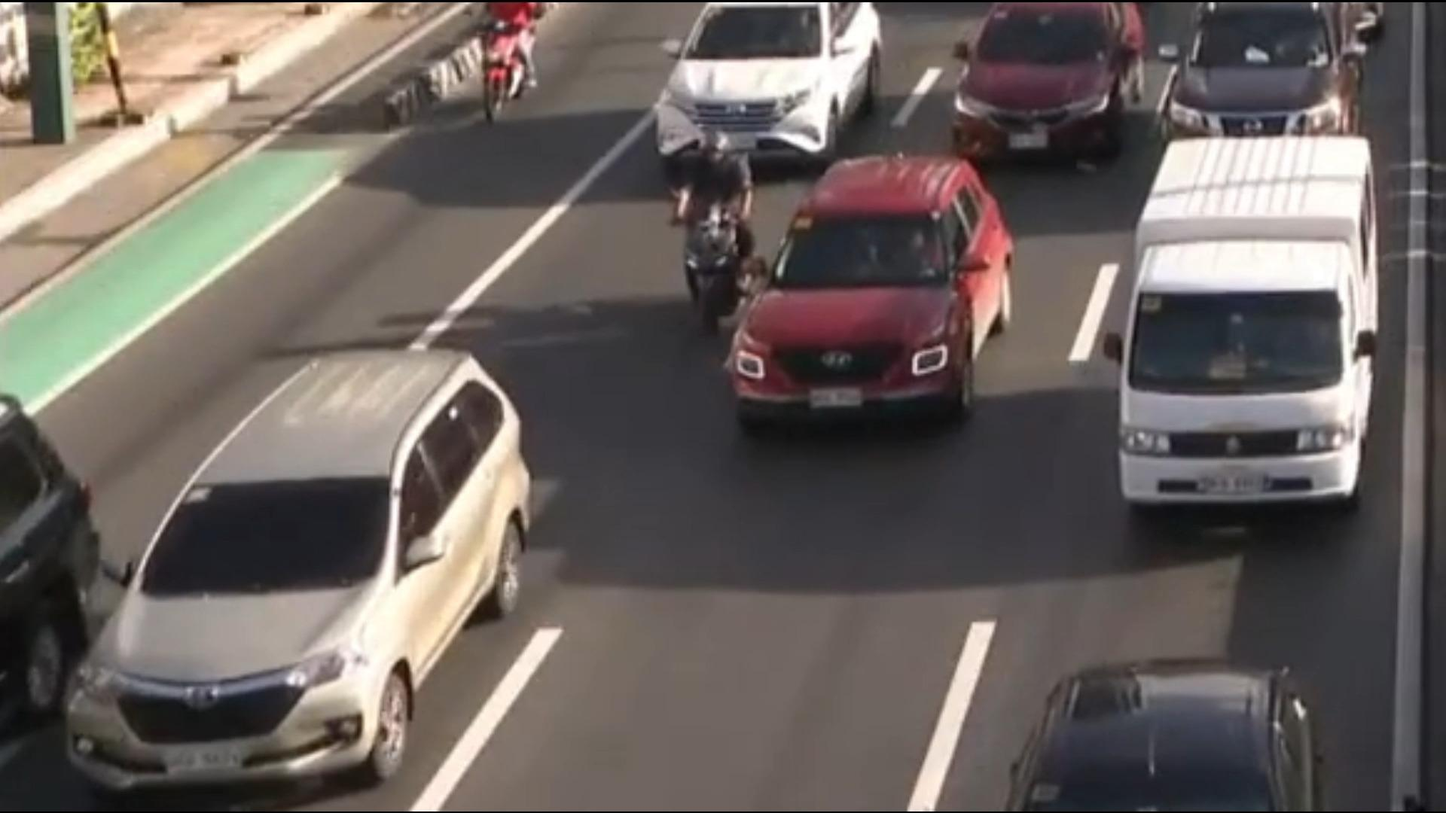Motorcycle: (653, 119, 789, 342), (437, 0, 593, 134)
Multicab: (1084, 134, 1431, 542)
SUV: (60, 313, 567, 813), (727, 162, 1028, 471), (974, 627, 1341, 813), (635, 0, 921, 185), (944, 0, 1153, 175), (1150, 6, 1380, 149)
